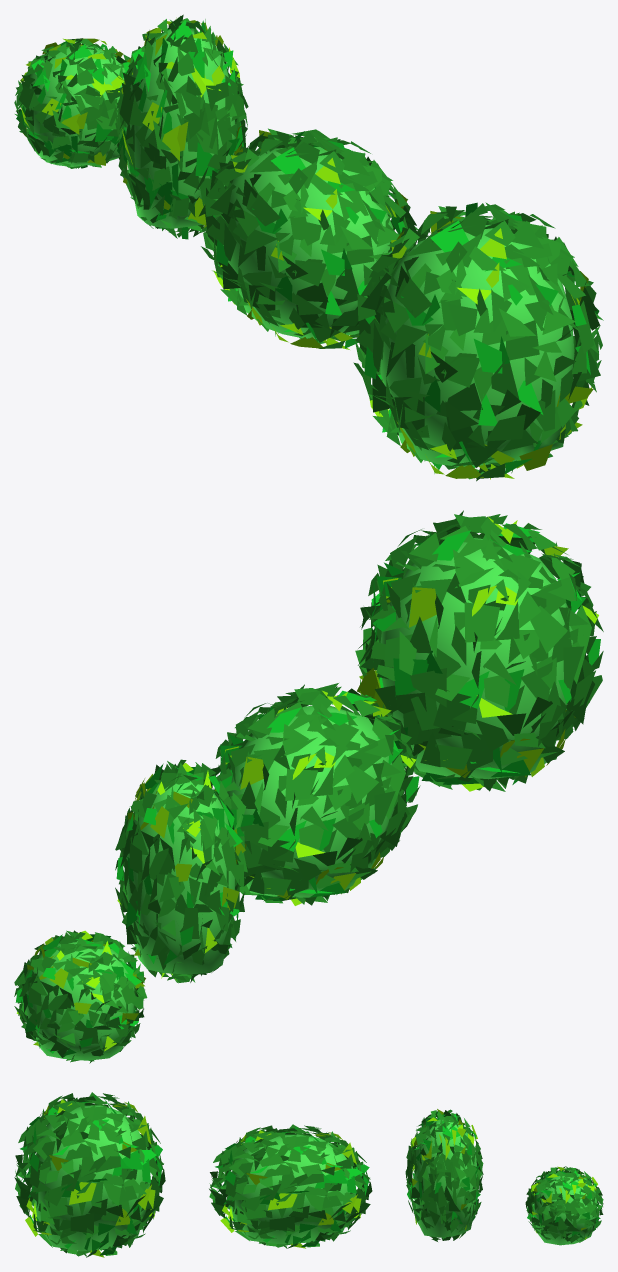
Rendered from Bush_Combined.fbx.
3 renders of one model, top to bottom at view 1: azimuth 30°, elevation 25°; view 2: azimuth 150°, elevation 25°; view 3: azimuth 270°, elevation 25°, orthographic. The views are drawn at different scales.
Parts seen in each view (by area): view 1: Cube.006, Cube.005, Cube.002, Cube.001; view 2: Cube.006, Cube.005, Cube.002, Cube.001; view 3: Cube.006, Cube.005, Cube.002, Cube.001.
Boxes of the visible parts, x1,y1,x2,y2 form: Cube.006: (353, 202, 603, 481); Cube.005: (198, 128, 418, 349); Cube.002: (115, 14, 248, 239); Cube.001: (14, 38, 132, 168); Cube.006: (355, 510, 603, 791); Cube.005: (211, 683, 420, 905); Cube.002: (115, 759, 247, 983); Cube.001: (14, 930, 147, 1063); Cube.006: (14, 1092, 165, 1257); Cube.005: (209, 1124, 372, 1248); Cube.002: (405, 1109, 483, 1241); Cube.001: (525, 1166, 603, 1245).
Bounding box in the file's own units: 352 × 417 × 1432.
